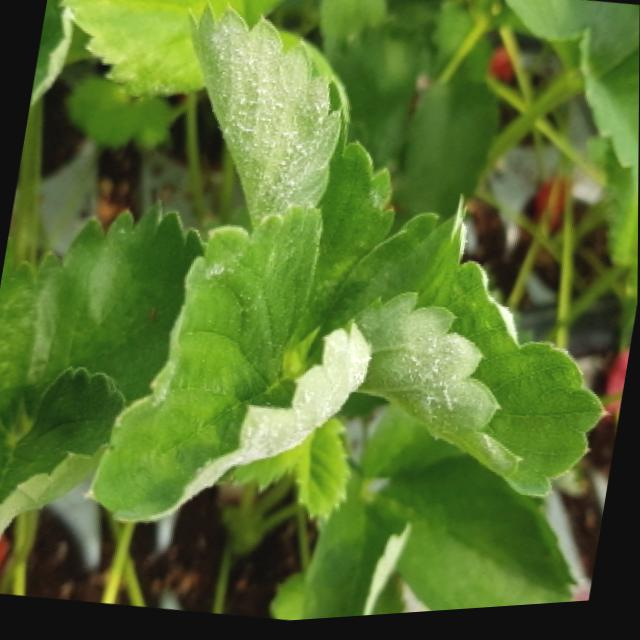Powdery Mildew Leaf: (301, 197, 609, 504), (82, 208, 372, 522), (185, 3, 394, 351), (27, 0, 73, 118)
